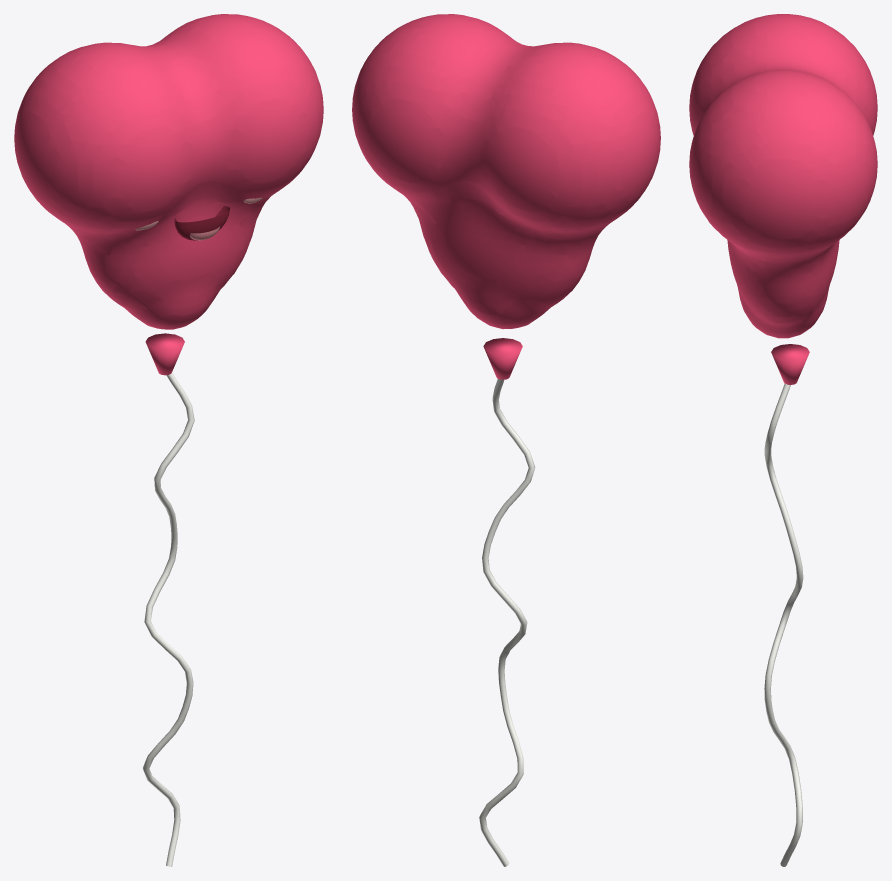
The model's file is B01_Heart.glb.
The picture shows the model from 3 angles, left to right: view 1: azimuth 30°, elevation 25°; view 2: azimuth 150°, elevation 25°; view 3: azimuth 270°, elevation 25°; orthographic projection.
Parts seen in each view (by area): view 1: B01_Heart_Mesh, B01_Mouth; view 2: B01_Heart_Mesh; view 3: B01_Heart_Mesh.
Boxes of the visible parts, <box> form: B01_Heart_Mesh: <box>14,14,323,866</box>; B01_Mouth: <box>174,206,229,240</box>; B01_Heart_Mesh: <box>352,14,660,866</box>; B01_Heart_Mesh: <box>689,14,877,866</box>.
Bounding box in the file's own units: 0.5795 × 1.62 × 0.3395.
